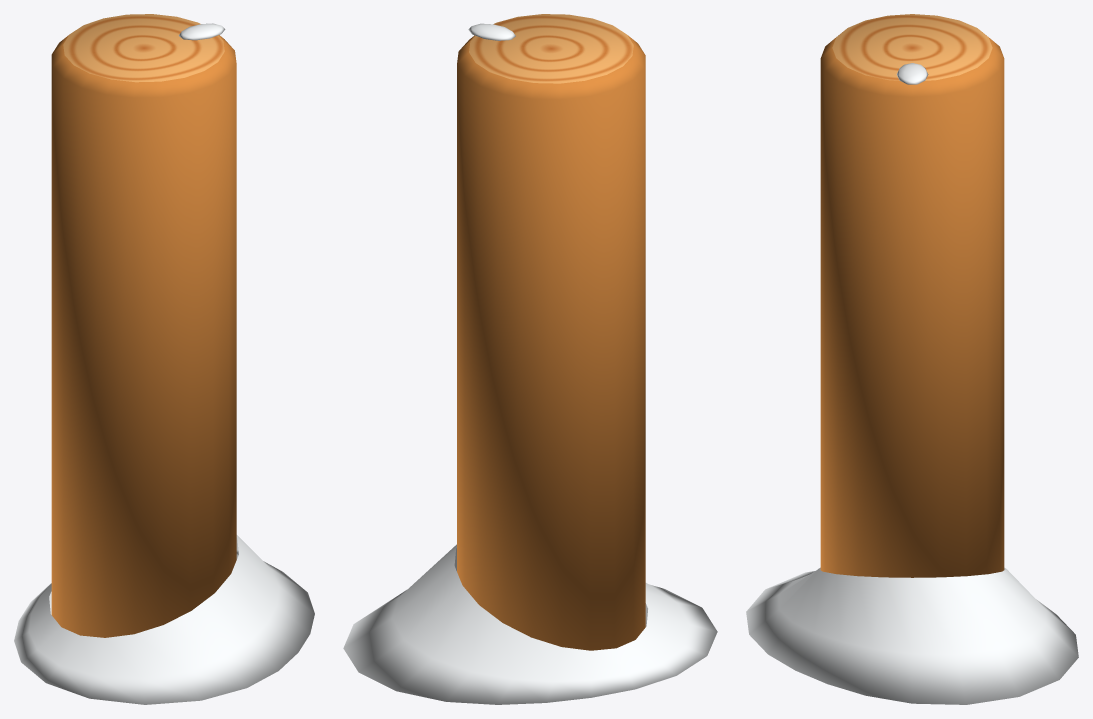
Rendered from Log_Single_02.glb.
3 renders of one model, left to right at view 1: azimuth 30°, elevation 25°; view 2: azimuth 150°, elevation 25°; view 3: azimuth 270°, elevation 25°, orthographic. The views are drawn at different scales.
Visible parts, largest first — view 1: Log_Single_02_Log, Log_Single_02_Snow, Log_Single_02_Frost; view 2: Log_Single_02_Log, Log_Single_02_Snow, Log_Single_02_Frost; view 3: Log_Single_02_Log, Log_Single_02_Snow, Log_Single_02_Frost.
Boxes of the visible parts, left/top/right/bottom form: Log_Single_02_Log: left=51, top=14, right=236, bottom=637; Log_Single_02_Snow: left=14, top=535, right=314, bottom=704; Log_Single_02_Frost: left=178, top=23, right=225, bottom=40; Log_Single_02_Log: left=457, top=14, right=645, bottom=650; Log_Single_02_Snow: left=343, top=544, right=717, bottom=704; Log_Single_02_Frost: left=468, top=23, right=515, bottom=40; Log_Single_02_Log: left=820, top=14, right=1004, bottom=577; Log_Single_02_Snow: left=746, top=567, right=1078, bottom=704; Log_Single_02_Frost: left=896, top=63, right=928, bottom=84.
Bounding box in the file's own units: 0.4276 × 0.8294 × 0.4276.
3 materials, 1 textured.
